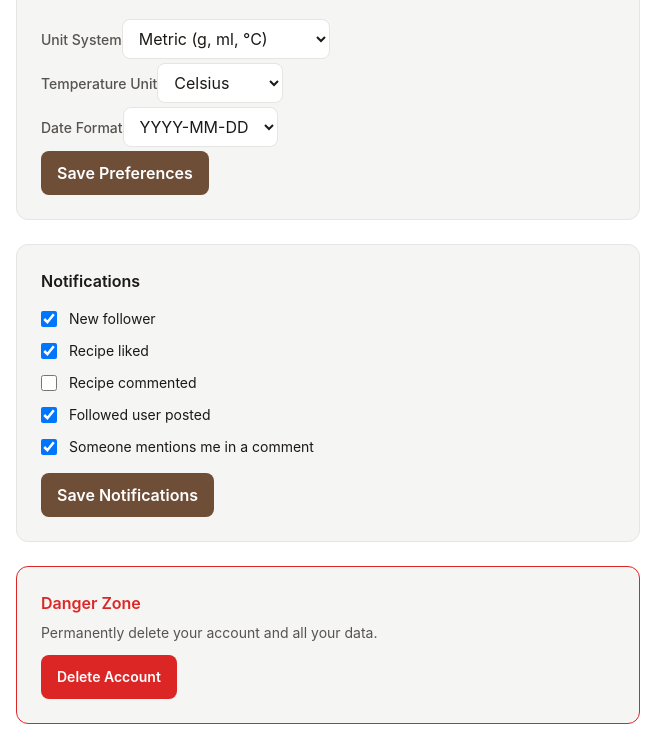
it: SettingsPage › Delete Account › shows error banner on failure in English
(page scrolled)
Click the button "Delete Account" at (109, 677), box [41,655,177,699]
(page scrolled)
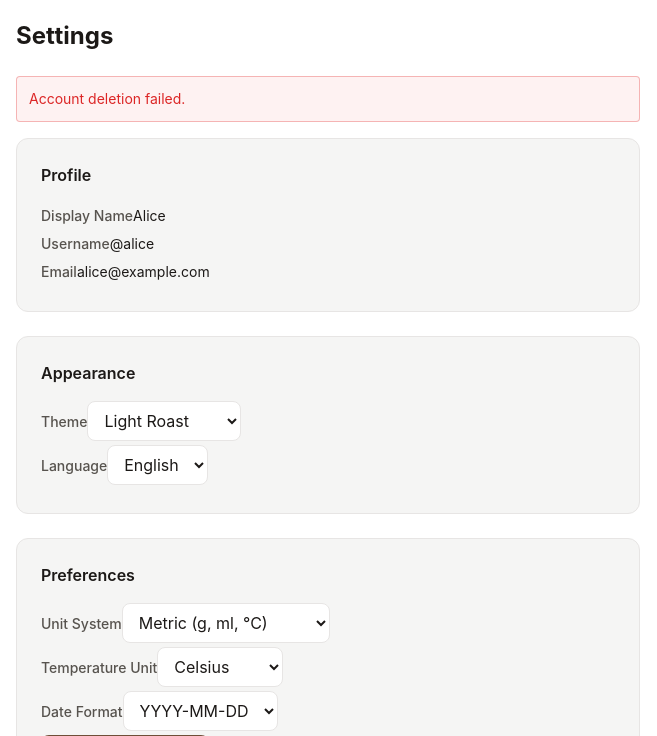
Now the text "Account deletion failed." is shown, box [16,76,640,122]
